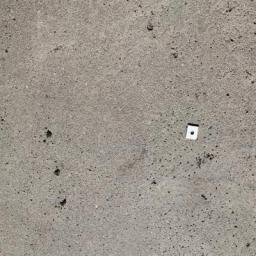FOD: (184, 121, 204, 144)
